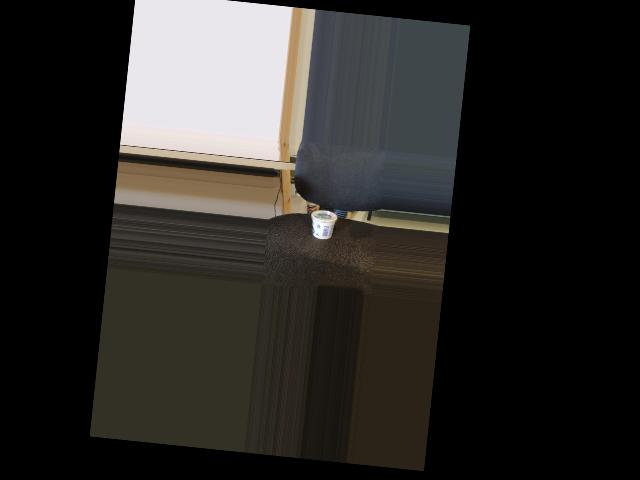cotage: (309, 208, 337, 243)
